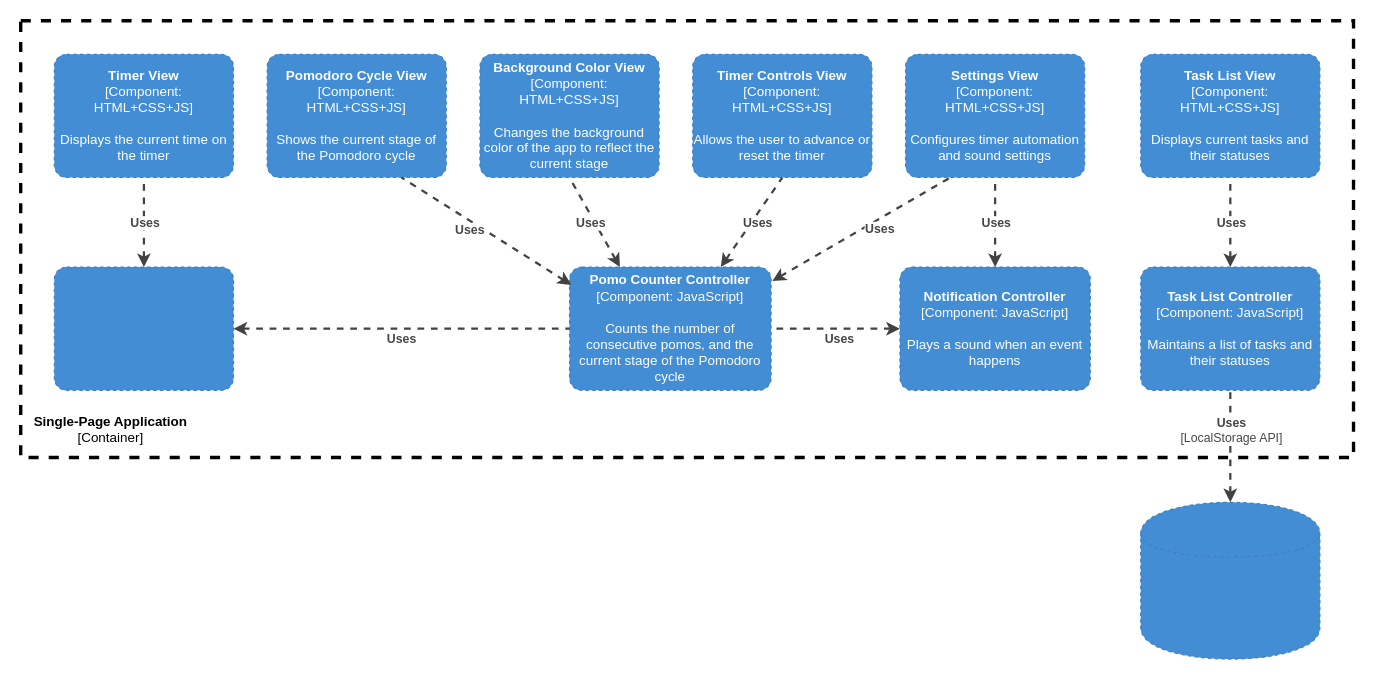
Image size: 1374x679. Some labels were removed from this diagram. The shapes that lost their labels are listed below. From the top down, each one's box as (x1, y1, x2, y2) in pixels, then its label:
(53, 266, 234, 390): Timer Controller [Component: JavaScript] Tracks wall clock time
(1140, 501, 1320, 659): Database [Container: Local Storage] Browser storage
